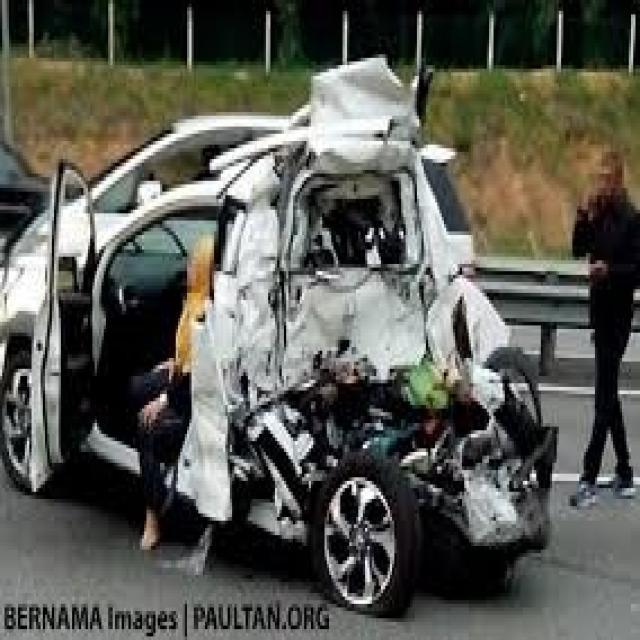accident: (149, 59, 574, 624)
